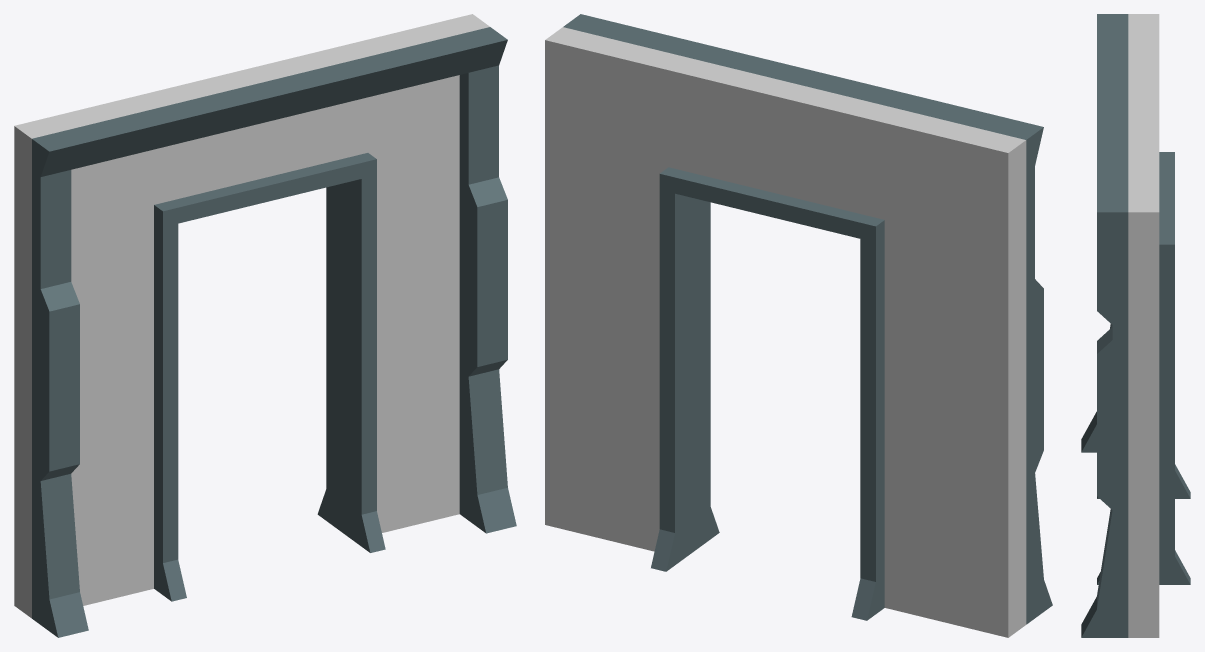
The model's file is scifi_wall_1sided_door.fbx.
3 views of the same model, side by side, from view 1: azimuth 30°, elevation 25°; view 2: azimuth 150°, elevation 25°; view 3: azimuth 270°, elevation 25° (orthographic). The views are drawn at different scales.
Parts seen in each view (by area): view 1: Cube.060; view 2: Cube.060; view 3: Cube.060.
Part boxes in pixels (x1,y1,x2,y2): Cube.060: (14,14,516,637); Cube.060: (545,14,1052,637); Cube.060: (1081,14,1190,637).
Bounding box in the file's own units: 3 × 3 × 0.7.
